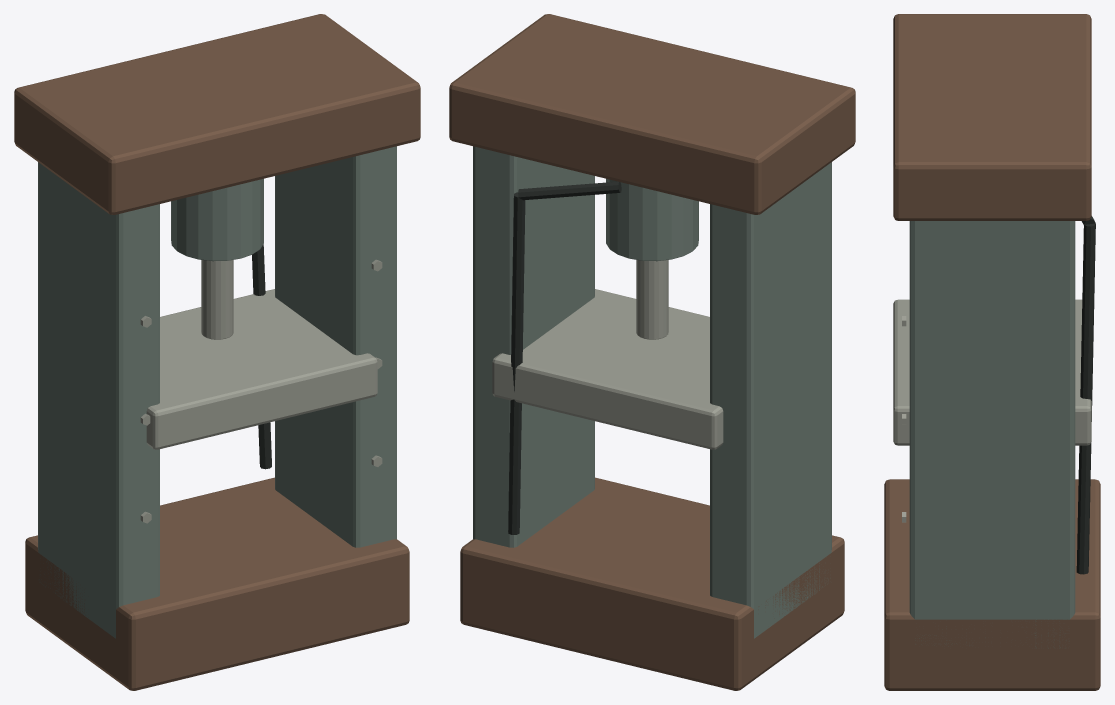
Rendered from workshop_press.glb.
3 renders of one model, left to right at view 1: azimuth 30°, elevation 25°; view 2: azimuth 150°, elevation 25°; view 3: azimuth 270°, elevation 25°, orthographic.
Parts seen in each view (by area): view 1: workshop_press; view 2: workshop_press; view 3: workshop_press.
Part boxes in pixels (left/top/right/bottom): workshop_press: left=14, top=14, right=420, bottom=690; workshop_press: left=449, top=14, right=855, bottom=690; workshop_press: left=884, top=14, right=1100, bottom=690.
Bounding box in the file's own units: 1 × 1.64 × 0.6.
